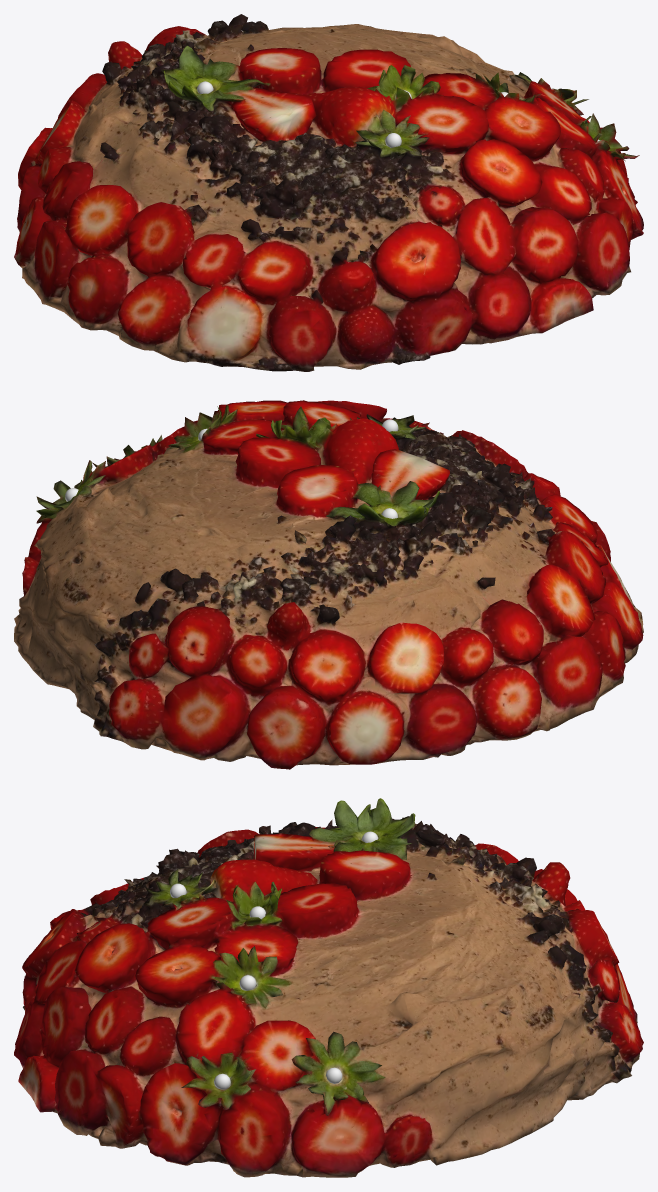
The model's file is strawberry_chocolate_cake.glb.
3 renders of one model, top to bottom at view 1: azimuth 30°, elevation 25°; view 2: azimuth 150°, elevation 25°; view 3: azimuth 270°, elevation 25°, orthographic. The views are drawn at different scales.
Parts seen in each view (by area): view 1: strawberry_chocolate_cake; view 2: strawberry_chocolate_cake; view 3: strawberry_chocolate_cake.
Boxes of the visible parts, bbox=[...] form: strawberry_chocolate_cake: bbox=[14, 14, 643, 371]; strawberry_chocolate_cake: bbox=[14, 400, 643, 769]; strawberry_chocolate_cake: bbox=[14, 798, 643, 1177].
Size of the model in its own units: 0.2443 by 0.0792 by 0.2403.
Materials: 1 (1 with a texture image).
